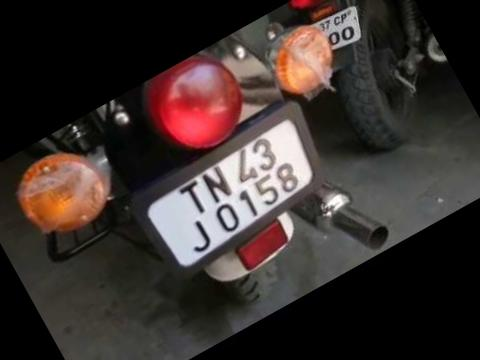plate: (114, 96, 345, 291)
